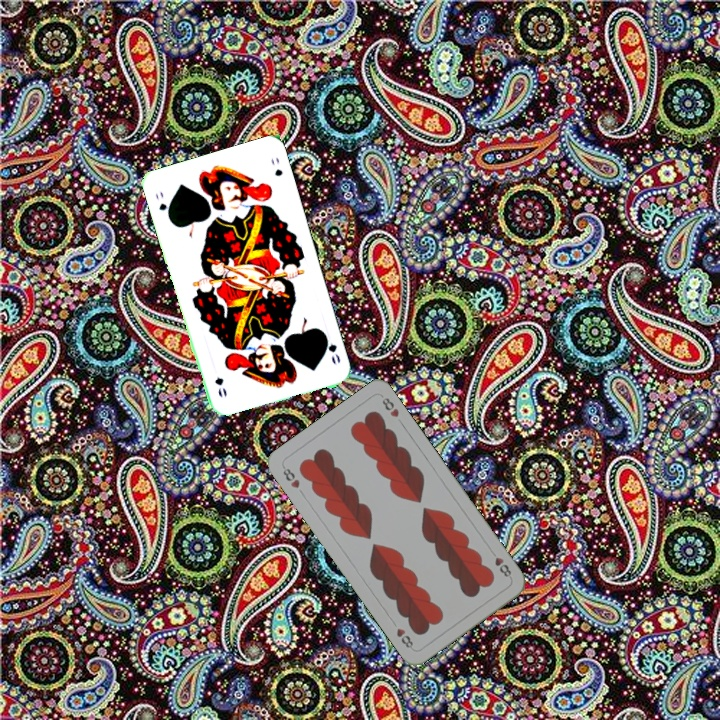GO: (151, 187, 173, 223), (321, 331, 343, 367)
H8: (486, 546, 514, 580), (278, 462, 302, 491)
